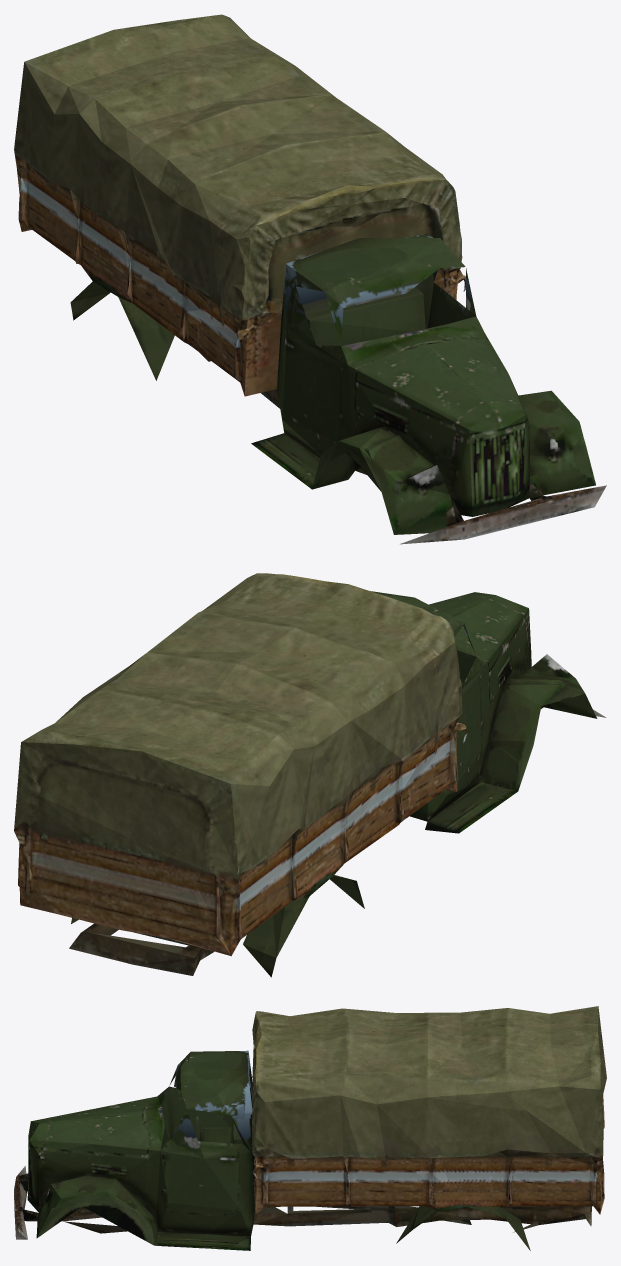
The model's file is truck.obj.
3 renders of one model, top to bottom at view 1: azimuth 30°, elevation 25°; view 2: azimuth 150°, elevation 25°; view 3: azimuth 270°, elevation 25°, orthographic. The views are drawn at different scales.
Bounding box in the file's own units: 0.3457 × 0.3483 × 0.9953.
Materials: 1 (1 with a texture image).
